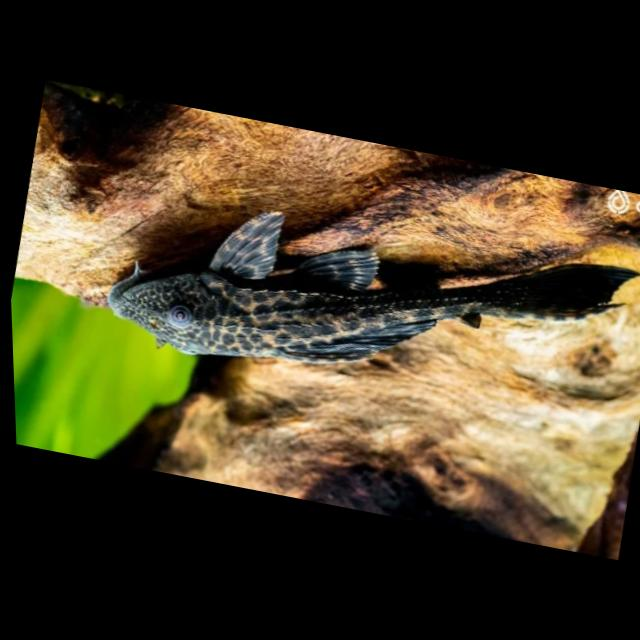fish: (81, 157, 640, 450)
